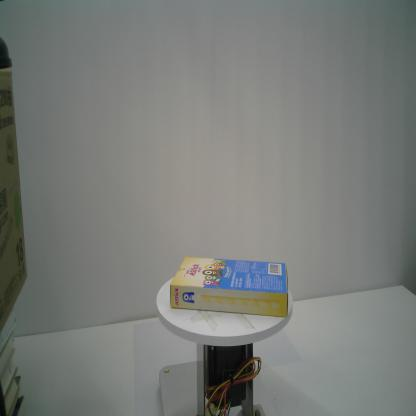Dessert: (170, 256, 288, 318)
